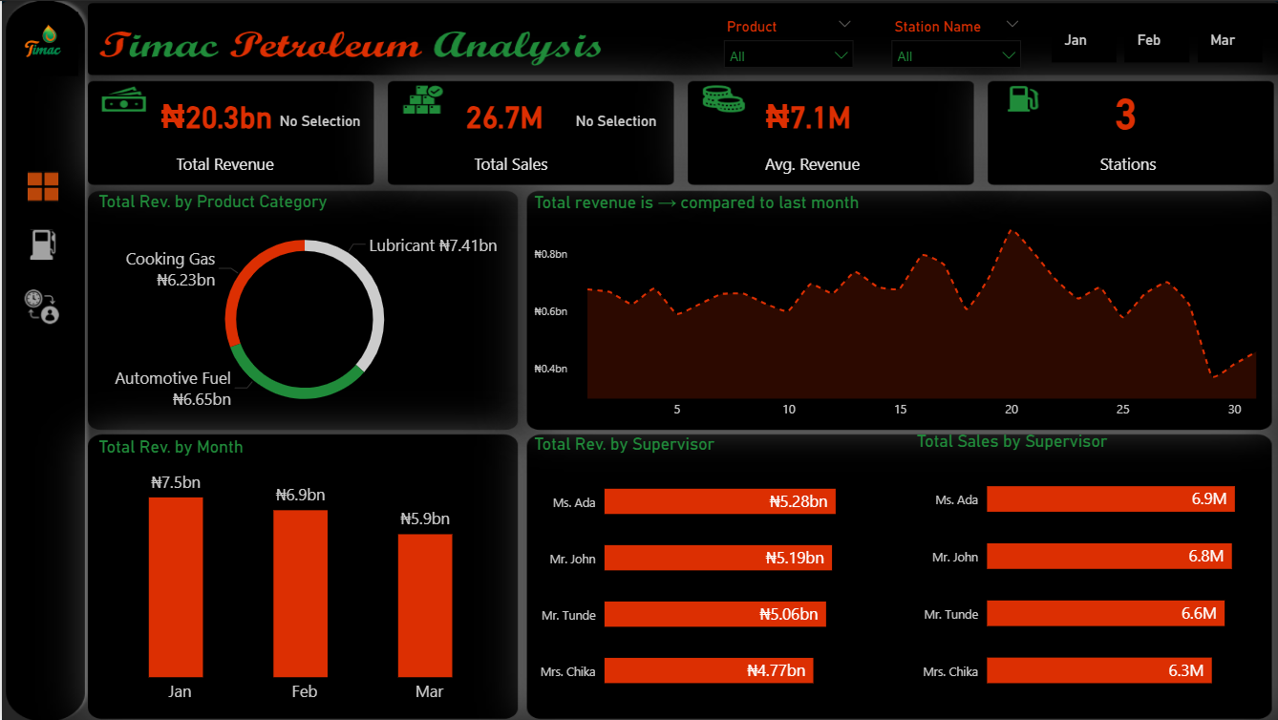

What the dashboard file says about the page in this screenshot:
{"tool":"powerbi","page":{"name":"Executive Summary","canvas":[1280,720],"ordinal":0},"visuals":[{"type":"actionButton","title":"window1","box":[16.3,165.9,50.4,39],"z":0,"group":"g1"},{"type":"clusteredColumnChart","fields":{"Y":["Calculations.Total Rev."],"Category":["Calendar.Month Short"]},"box":[91.1,435.9,421.3,276.5],"z":0},{"type":"lineChart","fields":{"Category":["Calendar.Day"],"Y":["Calculations.Total Rev."]},"box":[527,190.3,741.7,235.8],"z":1000},{"type":"actionButton","title":"station2","box":[16.2,224.3,50.4,38.2],"z":1000,"group":"g2"},{"type":"donutChart","fields":{"Y":["Calculations.Total Rev."],"Category":["Timac_Filling_Station.Product_Category"]},"box":[91.1,190.3,421.3,235.8],"z":2000},{"type":"actionButton","title":"shift2","box":[14.6,282.7,50.4,44.3],"z":2000,"group":"g2"},{"type":"clusteredBarChart","fields":{"Y":["Calculations.Total Rev."],"Category":["Timac_Filling_Station.Supervisor"]},"box":[527,432.7,370.9,279.8],"z":3000},{"type":"clusteredBarChart","title":"Total Sales by Supervisor","fields":{"Y":["Calculations.Total Qty"],"Category":["Timac_Filling_Station.Supervisor"]},"box":[909.2,429.4,359.5,283],"z":4000},{"type":"card","fields":{"Values":["Calculations.Total Rev."]},"box":[140.2,81.9,148.1,64.6],"z":5000},{"type":"card","fields":{"Values":["Calculations.RevMoM %"]},"box":[258.6,96,117.1,50.4],"z":6000},{"type":"advancedSlicerVisual","fields":{"Values":["Calendar.Month Short"]},"box":[1044.2,11.5,222,55.9],"z":7000},{"type":"card","fields":{"Values":["Calculations.Total Qty"]},"box":[428.3,81.6,147.5,64.5],"z":8000},{"type":"card","fields":{"Values":["Calculations.SalesMoM %"]},"box":[554.7,94.3,118.7,52],"z":9000},{"type":"card","fields":{"Values":["Calculations.Avg. Revenue"]},"box":[732,81.6,147.5,64.5],"z":10000},{"type":"card","fields":{"Values":["Calculations.Total Stations"]},"box":[1071.9,81.3,104.1,53.7],"z":11000},{"type":"slicer","fields":{"Values":["Timac_Filling_Station.Station_Name"]},"box":[880,11.4,149.6,55.3],"z":12000},{"type":"slicer","fields":{"Values":["Timac_Filling_Station.Product"]},"box":[712.4,11.4,149.6,55.3],"z":13000},{"type":"textbox","box":[169.2,146.4,118.7,39],"z":14000},{"type":"textbox","box":[466.8,146.4,118.7,39],"z":15000},{"type":"textbox","box":[758,146.4,118.7,39],"z":16000},{"type":"textbox","box":[1093,146.4,74.8,39],"z":17000},{"type":"group","id":"g1","title":"Group 1","box":[16.3,165.9,52,161],"z":18000},{"type":"group","id":"g2","title":"Group 2","box":[14.6,165.9,52,161],"z":19000},{"type":"image","box":[5.7,5.7,77.3,74.5],"z":20000}]}

Visuals, with their boxes in screenshot pixels (x1, y1, x2, y2), scaled from the page's 1280x720 canvas onto the 1278x720 screenshot:
"window1" actionButton: (left=16, top=166, right=67, bottom=205)
clusteredColumnChart - Calculations.Total Rev. x Calendar.Month Short: (left=91, top=436, right=512, bottom=712)
lineChart - Calendar.Day x Calculations.Total Rev.: (left=526, top=190, right=1267, bottom=426)
"station2" actionButton: (left=16, top=224, right=66, bottom=262)
donutChart - Calculations.Total Rev. x Timac_Filling_Station.Product_Category: (left=91, top=190, right=512, bottom=426)
"shift2" actionButton: (left=15, top=283, right=65, bottom=327)
clusteredBarChart - Calculations.Total Rev. x Timac_Filling_Station.Supervisor: (left=526, top=433, right=896, bottom=712)
"Total Sales by Supervisor" clusteredBarChart: (left=908, top=429, right=1267, bottom=712)
card - Calculations.Total Rev.: (left=140, top=82, right=288, bottom=146)
card - Calculations.RevMoM %: (left=258, top=96, right=375, bottom=146)
advancedSlicerVisual - Calendar.Month Short: (left=1043, top=12, right=1264, bottom=67)
card - Calculations.Total Qty: (left=428, top=82, right=575, bottom=146)
card - Calculations.SalesMoM %: (left=554, top=94, right=672, bottom=146)
card - Calculations.Avg. Revenue: (left=731, top=82, right=878, bottom=146)
card - Calculations.Total Stations: (left=1070, top=81, right=1174, bottom=135)
slicer - Timac_Filling_Station.Station_Name: (left=879, top=11, right=1028, bottom=67)
slicer - Timac_Filling_Station.Product: (left=711, top=11, right=861, bottom=67)
textbox: (left=169, top=146, right=287, bottom=185)
textbox: (left=466, top=146, right=585, bottom=185)
textbox: (left=757, top=146, right=875, bottom=185)
textbox: (left=1091, top=146, right=1166, bottom=185)
"Group 1" group: (left=16, top=166, right=68, bottom=327)
"Group 2" group: (left=15, top=166, right=66, bottom=327)
image: (left=6, top=6, right=83, bottom=80)
